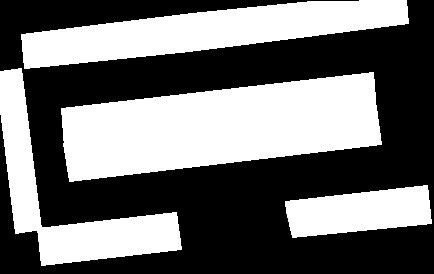parkingspot: (21, 0, 408, 68), (61, 72, 376, 147), (63, 107, 381, 181), (37, 212, 181, 265), (285, 185, 431, 237), (0, 68, 41, 233)
